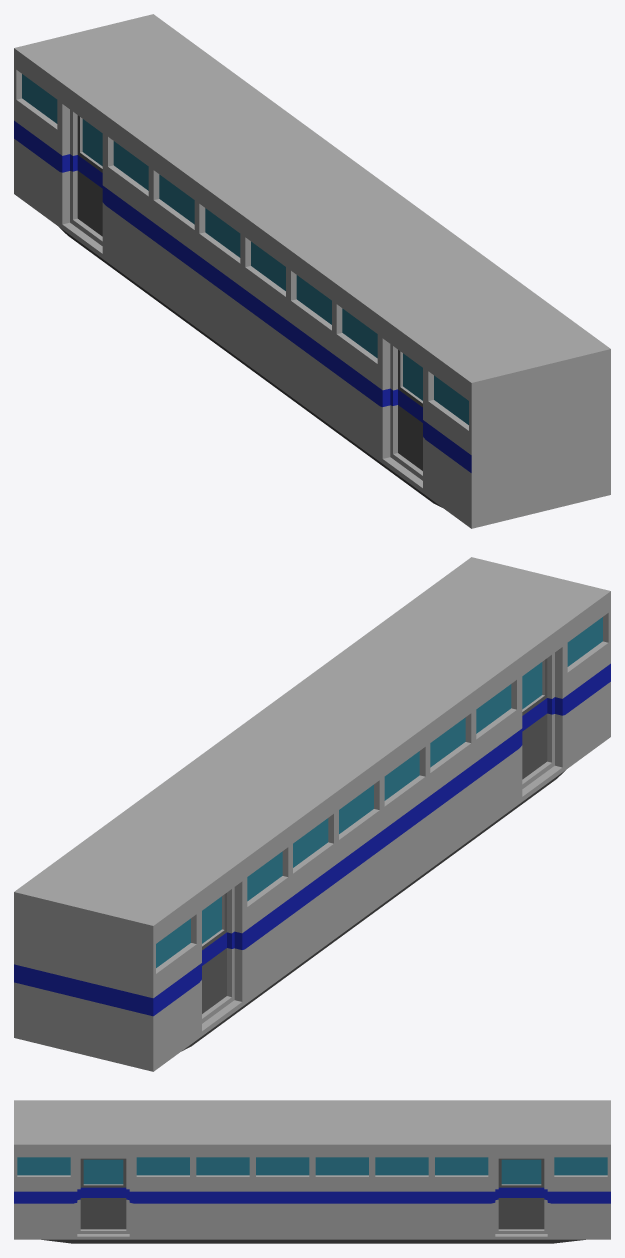
The model's file is new train(rectangular-portion).fbx.
The picture shows the model from 3 angles, top to bottom: view 1: azimuth 30°, elevation 25°; view 2: azimuth 150°, elevation 25°; view 3: azimuth 270°, elevation 25°; orthographic projection. The views are drawn at different scales.
Visible parts, largest first — view 1: Cube.001; view 2: Cube.001; view 3: Cube.001.
Boxes of the visible parts, box(x1,y1,x2,y2) form: Cube.001: box(14, 14, 610, 528); Cube.001: box(14, 557, 610, 1071); Cube.001: box(14, 1100, 610, 1243).
Bounding box in the file's own units: 200 × 214 × 1137.
